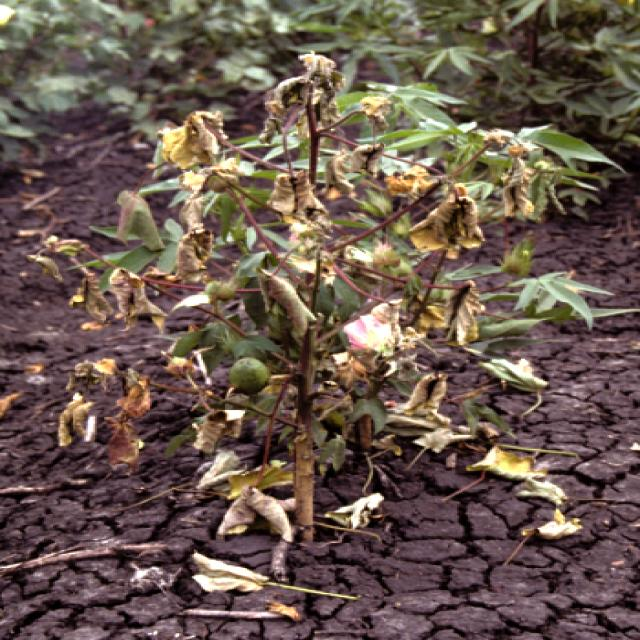Fusarium Wilt: (56, 32, 597, 532)
